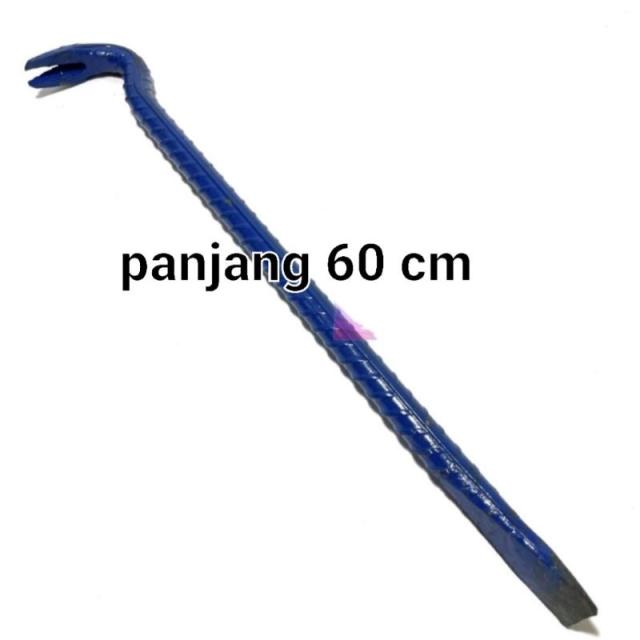Linggis: (24, 38, 600, 629)
